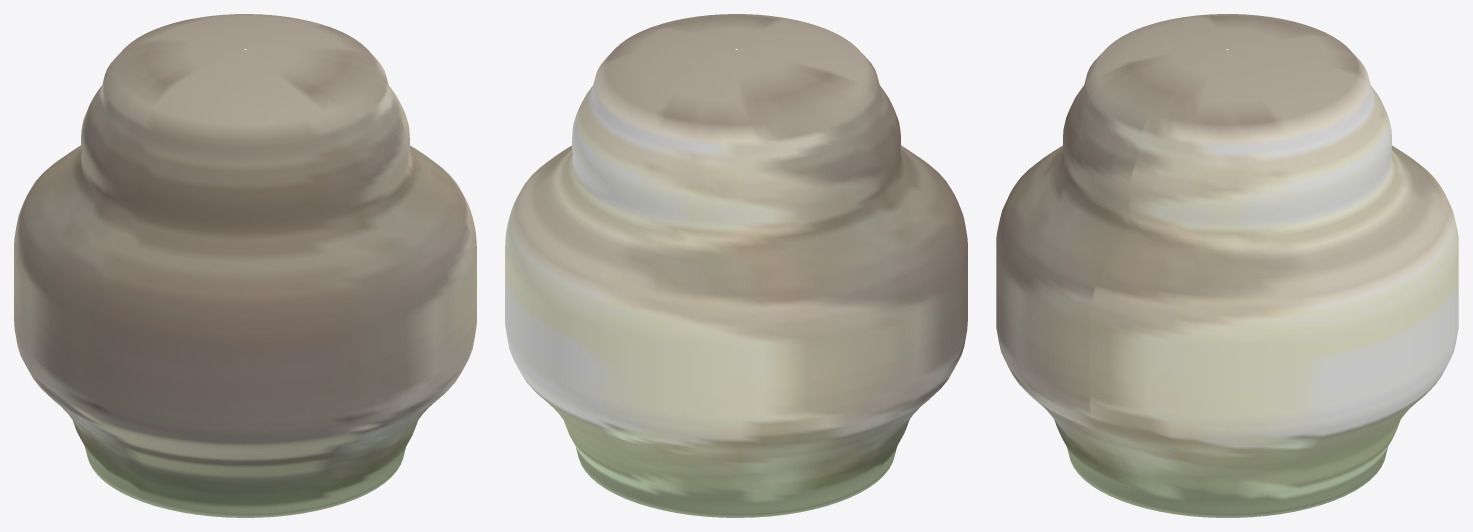
File: stone-1.glb
The picture shows the model from 3 angles, left to right: view 1: azimuth 30°, elevation 25°; view 2: azimuth 150°, elevation 25°; view 3: azimuth 270°, elevation 25°; orthographic projection.
Parts seen in each view (by area): view 1: stone-1; view 2: stone-1; view 3: stone-1.
Part boxes in pixels (x1,y1,x2,y2): stone-1: [14, 14, 476, 517]; stone-1: [505, 14, 967, 517]; stone-1: [996, 14, 1458, 517].
Bounding box in the file's own units: 0.4395 × 0.421 × 0.4395.
